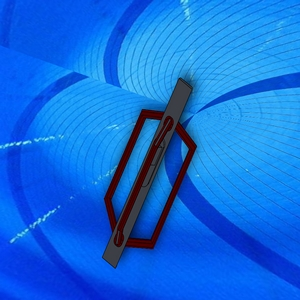submarine: (97, 64, 202, 279)
